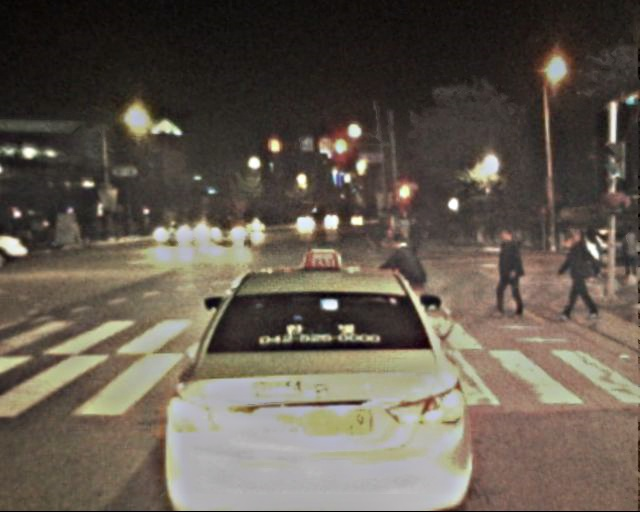person: (492, 224, 535, 330), (560, 225, 599, 321), (393, 234, 431, 327), (617, 222, 640, 281), (585, 226, 608, 281)
